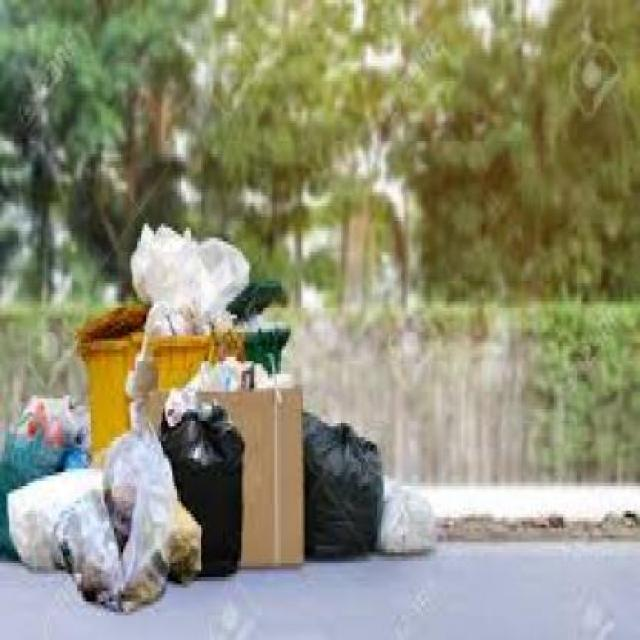garbage: (0, 396, 191, 606), (196, 392, 310, 566), (77, 311, 280, 398), (309, 413, 430, 553), (131, 231, 276, 322)
